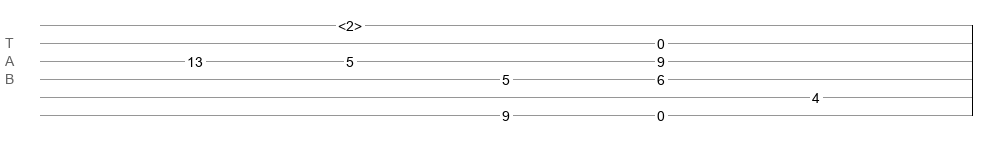0: (657, 36, 665, 46), (657, 108, 665, 118)
13: (187, 54, 203, 64)
4: (812, 90, 820, 100)
5: (346, 54, 354, 64), (502, 72, 510, 82)
6: (657, 72, 665, 82)
9: (502, 108, 510, 118), (657, 54, 665, 64)
harmonic: (338, 18, 362, 28)
